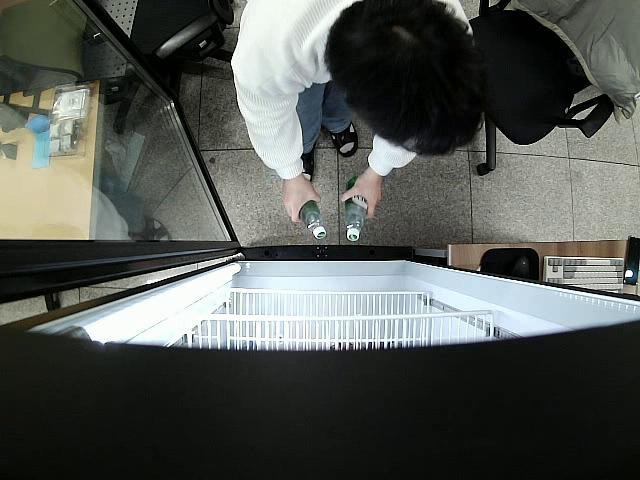18_trevi: (346, 176, 368, 242), (299, 200, 328, 241)
